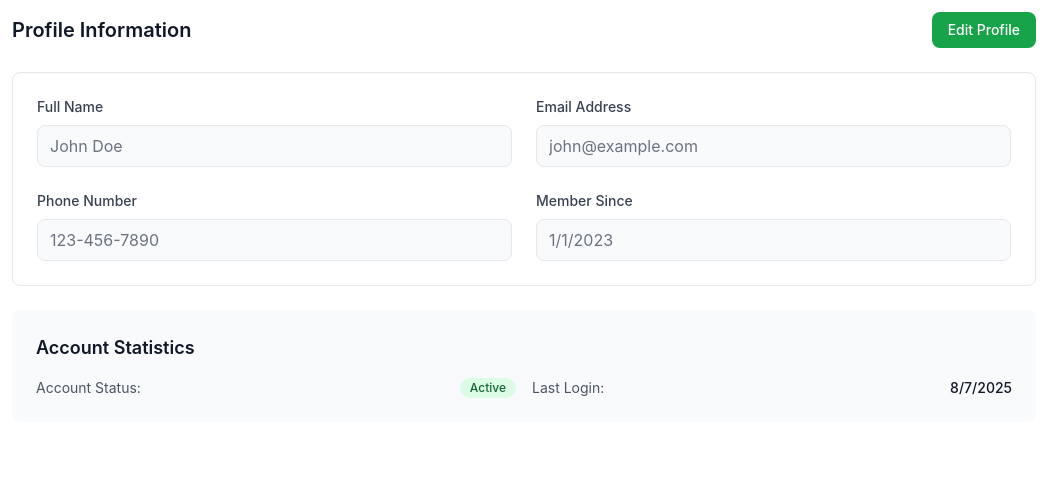
Test: ProfileEdit › switches to edit mode when edit button is clicked
What coordinates should you click on to do the following:
click the button "Edit Profile"
I would click on:
 (984, 30)
Its box is [932, 12, 1036, 48].
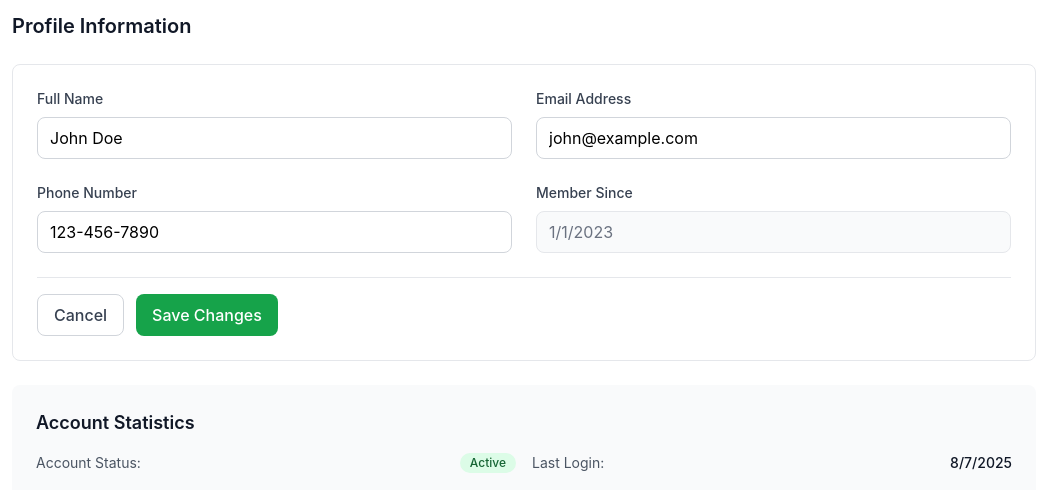
Expected: the button "Edit Profile" is gone
Expected: the button "Cancel" is shown, [37, 294, 124, 336]
Expected: the button "Save Changes" is shown, [136, 294, 278, 336]
